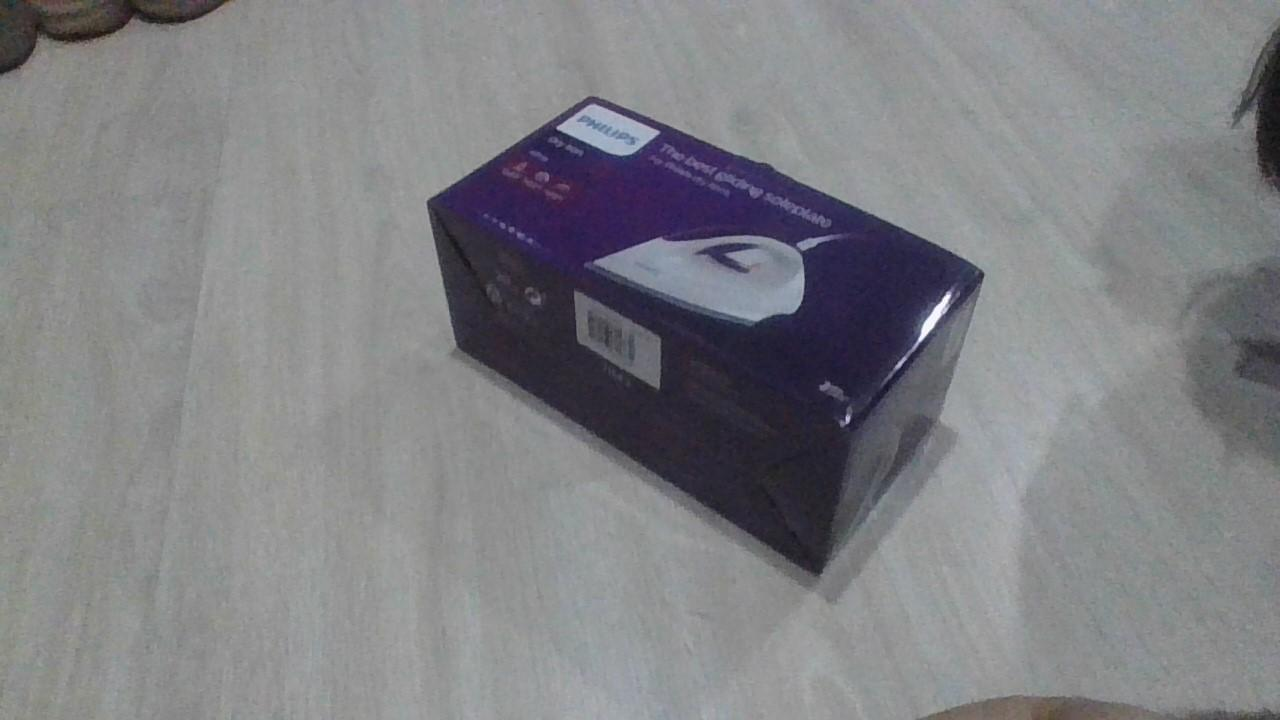IRON: (422, 91, 988, 583)
